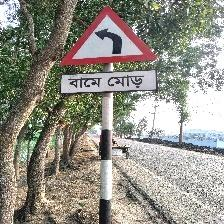Left-Turn: (60, 5, 160, 97)
